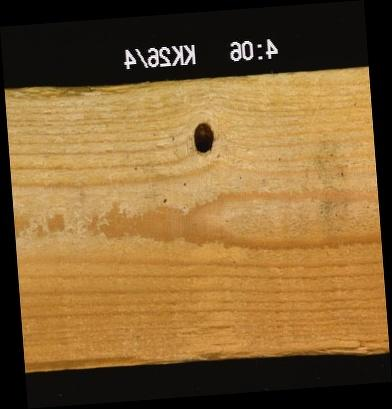wave: (4, 82, 159, 101), (24, 351, 157, 367), (188, 342, 252, 358)
